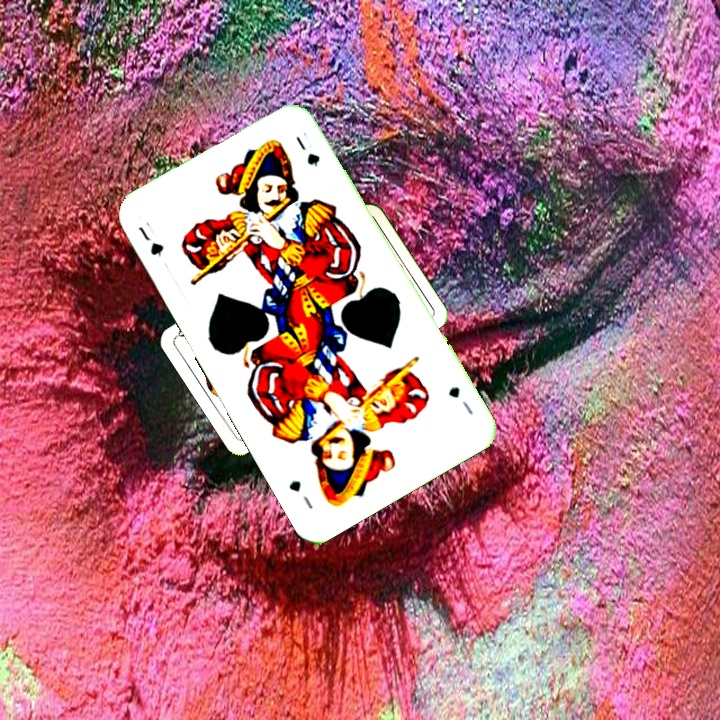GU: (134, 217, 166, 260), (444, 382, 476, 417)
